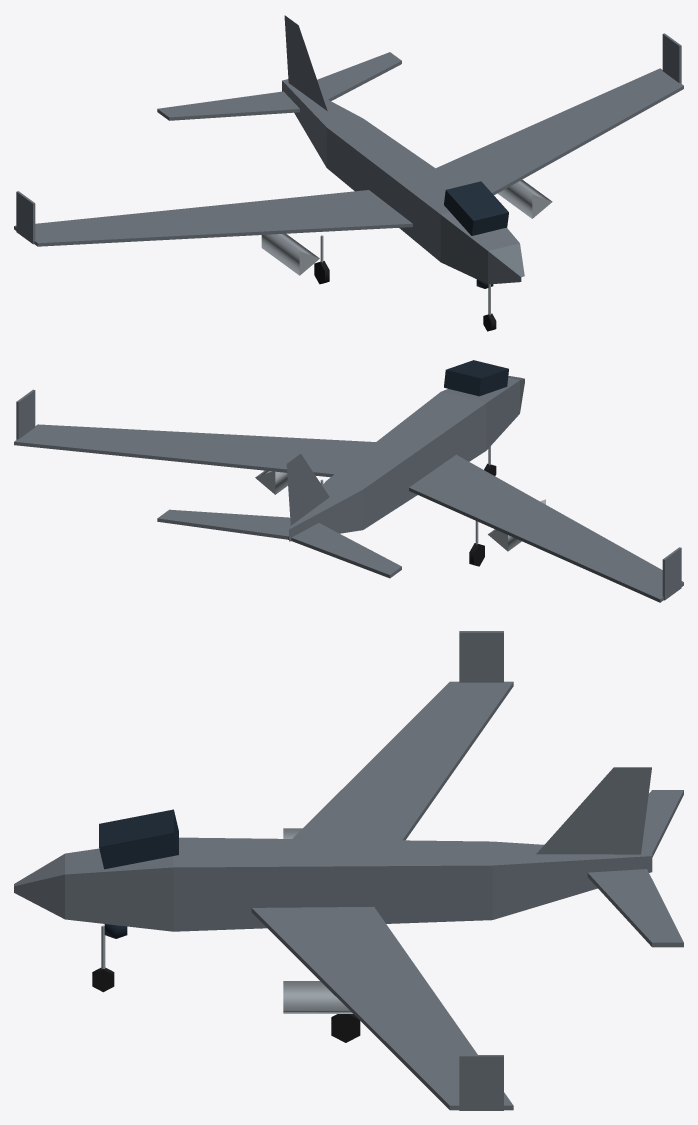
Rendered from veh_air_bomber_a08_lod2.glb.
3 renders of one model, top to bottom at view 1: azimuth 30°, elevation 25°; view 2: azimuth 150°, elevation 25°; view 3: azimuth 270°, elevation 25°, orthographic. The views are drawn at different scales.
Parts seen in each view (by area): view 1: body; view 2: body, gear_1; view 3: body, gear_2.
Boxes of the visible parts, <box> form: body: <box>14,15,683,288</box>; body: <box>14,360,683,602</box>; gear_1: <box>469,521,484,566</box>; body: <box>14,631,683,1110</box>; gear_2: <box>331,1014,360,1042</box>.
Size of the model in its own units: 24.06 by 5.92 by 16.02.
